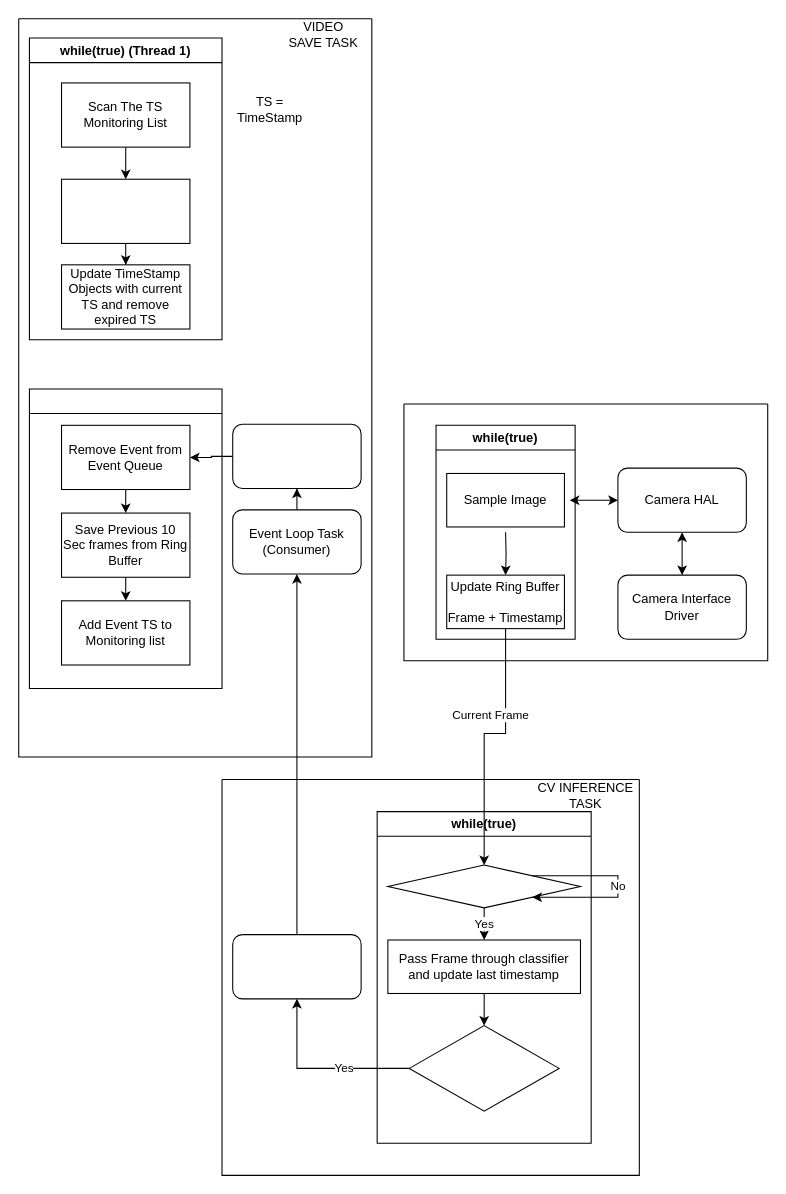
Some shapes in this 786 by 1194 pixel diagram are drawn without their labels. The shapes that lost their labels are listed below. From the top down, each one's centre as x and y in pixels, then its label:
At point (125, 210): "Save All Frames where TS + 10 < Current_TS".
At point (296, 455): "Push Event Details (Frame ptr + Event Type to Queue)".
At point (125, 538): "while(true) (thread 2)".
At point (585, 532): "CAMERA TASK".
At point (483, 886): "If Timestamp != last_ts".
At point (296, 966): "Event Producer".
At point (483, 1068): "If Event Generated".
